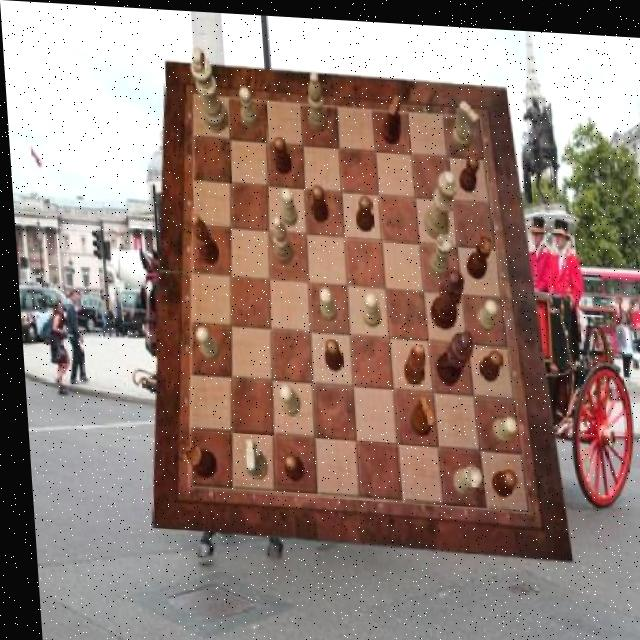bishop: (188, 211, 216, 263), (398, 340, 424, 382)
black-bishop: (428, 324, 470, 382)
black-king: (379, 90, 403, 140), (404, 390, 431, 433)
black-knight: (474, 344, 500, 378), (458, 149, 480, 188), (272, 132, 291, 171), (352, 191, 372, 228), (486, 465, 512, 493), (309, 182, 328, 219), (320, 334, 339, 369), (277, 451, 298, 479)
black-pawn: (425, 264, 464, 325)
black-queen: (462, 229, 492, 276), (180, 443, 213, 478)
black-rook: (304, 68, 326, 129), (269, 212, 292, 262)
white-bishop: (189, 44, 228, 130)
white-king: (450, 95, 480, 145), (238, 438, 263, 479)
white-knight: (191, 323, 216, 359), (471, 294, 495, 327), (238, 85, 257, 126), (276, 183, 295, 223), (486, 411, 514, 438), (358, 288, 377, 324), (275, 381, 296, 413), (316, 283, 335, 318)
white-pawn: (418, 164, 459, 236)
white-queen: (425, 228, 451, 273), (446, 459, 477, 493)
